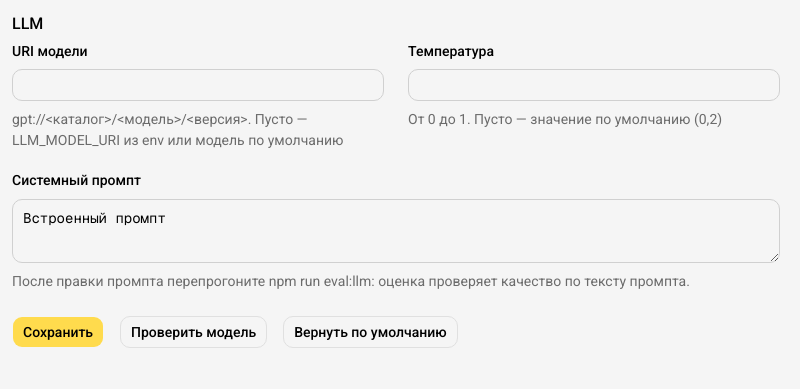
Test: LlmSettingsForm › пустой промпт — ошибка у поля
The image size is (800, 389).
Clear the text box labelled "Системный промпт". click: (396, 230)
box: [12,198,780,262]
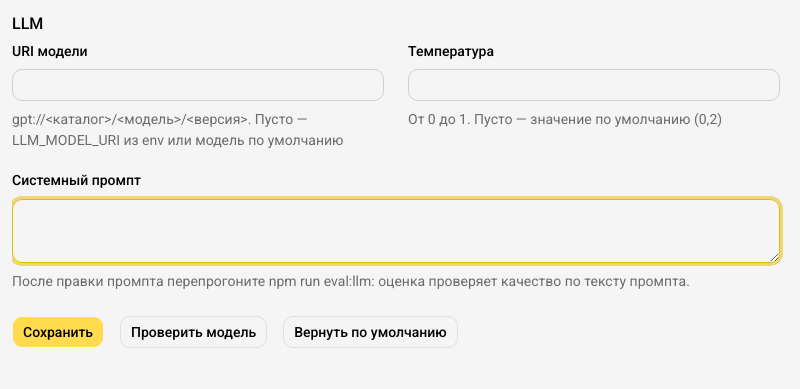
Click the button "Сохранить". click: click(58, 332)
box: [12,316,104,348]
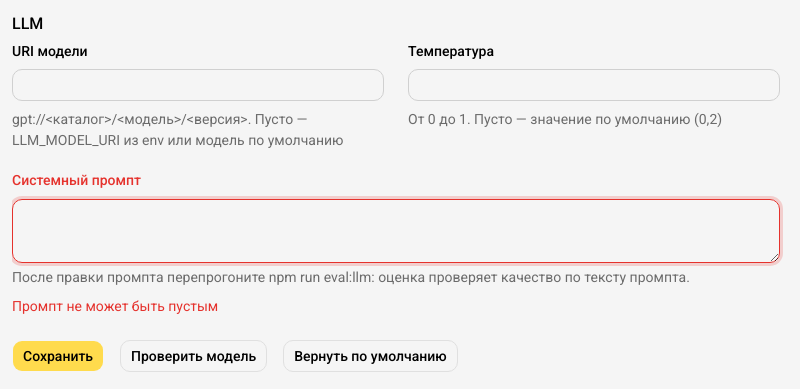
Result: the text "Промпт не может быть пустым" is shown at [12,298,218,314]
